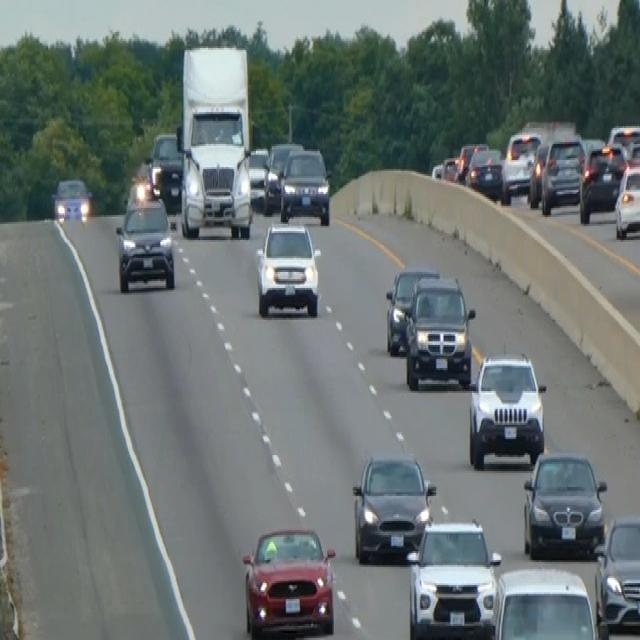car: (406, 516, 501, 638), (241, 524, 336, 638), (351, 449, 436, 564), (467, 348, 546, 469), (521, 448, 607, 558), (403, 272, 475, 389), (488, 564, 599, 638), (114, 190, 175, 292), (593, 511, 639, 636), (384, 265, 438, 355), (278, 146, 331, 226), (579, 140, 626, 222), (540, 134, 586, 214), (500, 128, 541, 203), (262, 140, 303, 213), (145, 130, 182, 208), (614, 158, 639, 240), (466, 144, 503, 197), (52, 176, 91, 224), (527, 139, 550, 206), (247, 144, 269, 204), (607, 121, 639, 162), (455, 140, 485, 182)
jeep: (253, 217, 321, 320)
lorry: (176, 43, 253, 240)
